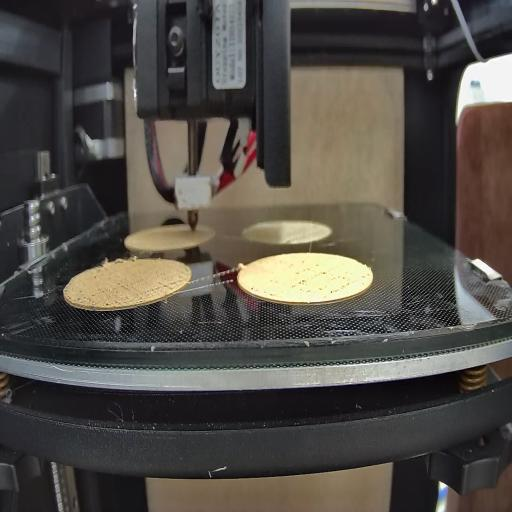under_extrusion: (292, 260, 350, 298), (77, 273, 131, 307), (249, 277, 276, 302), (147, 278, 182, 297)
